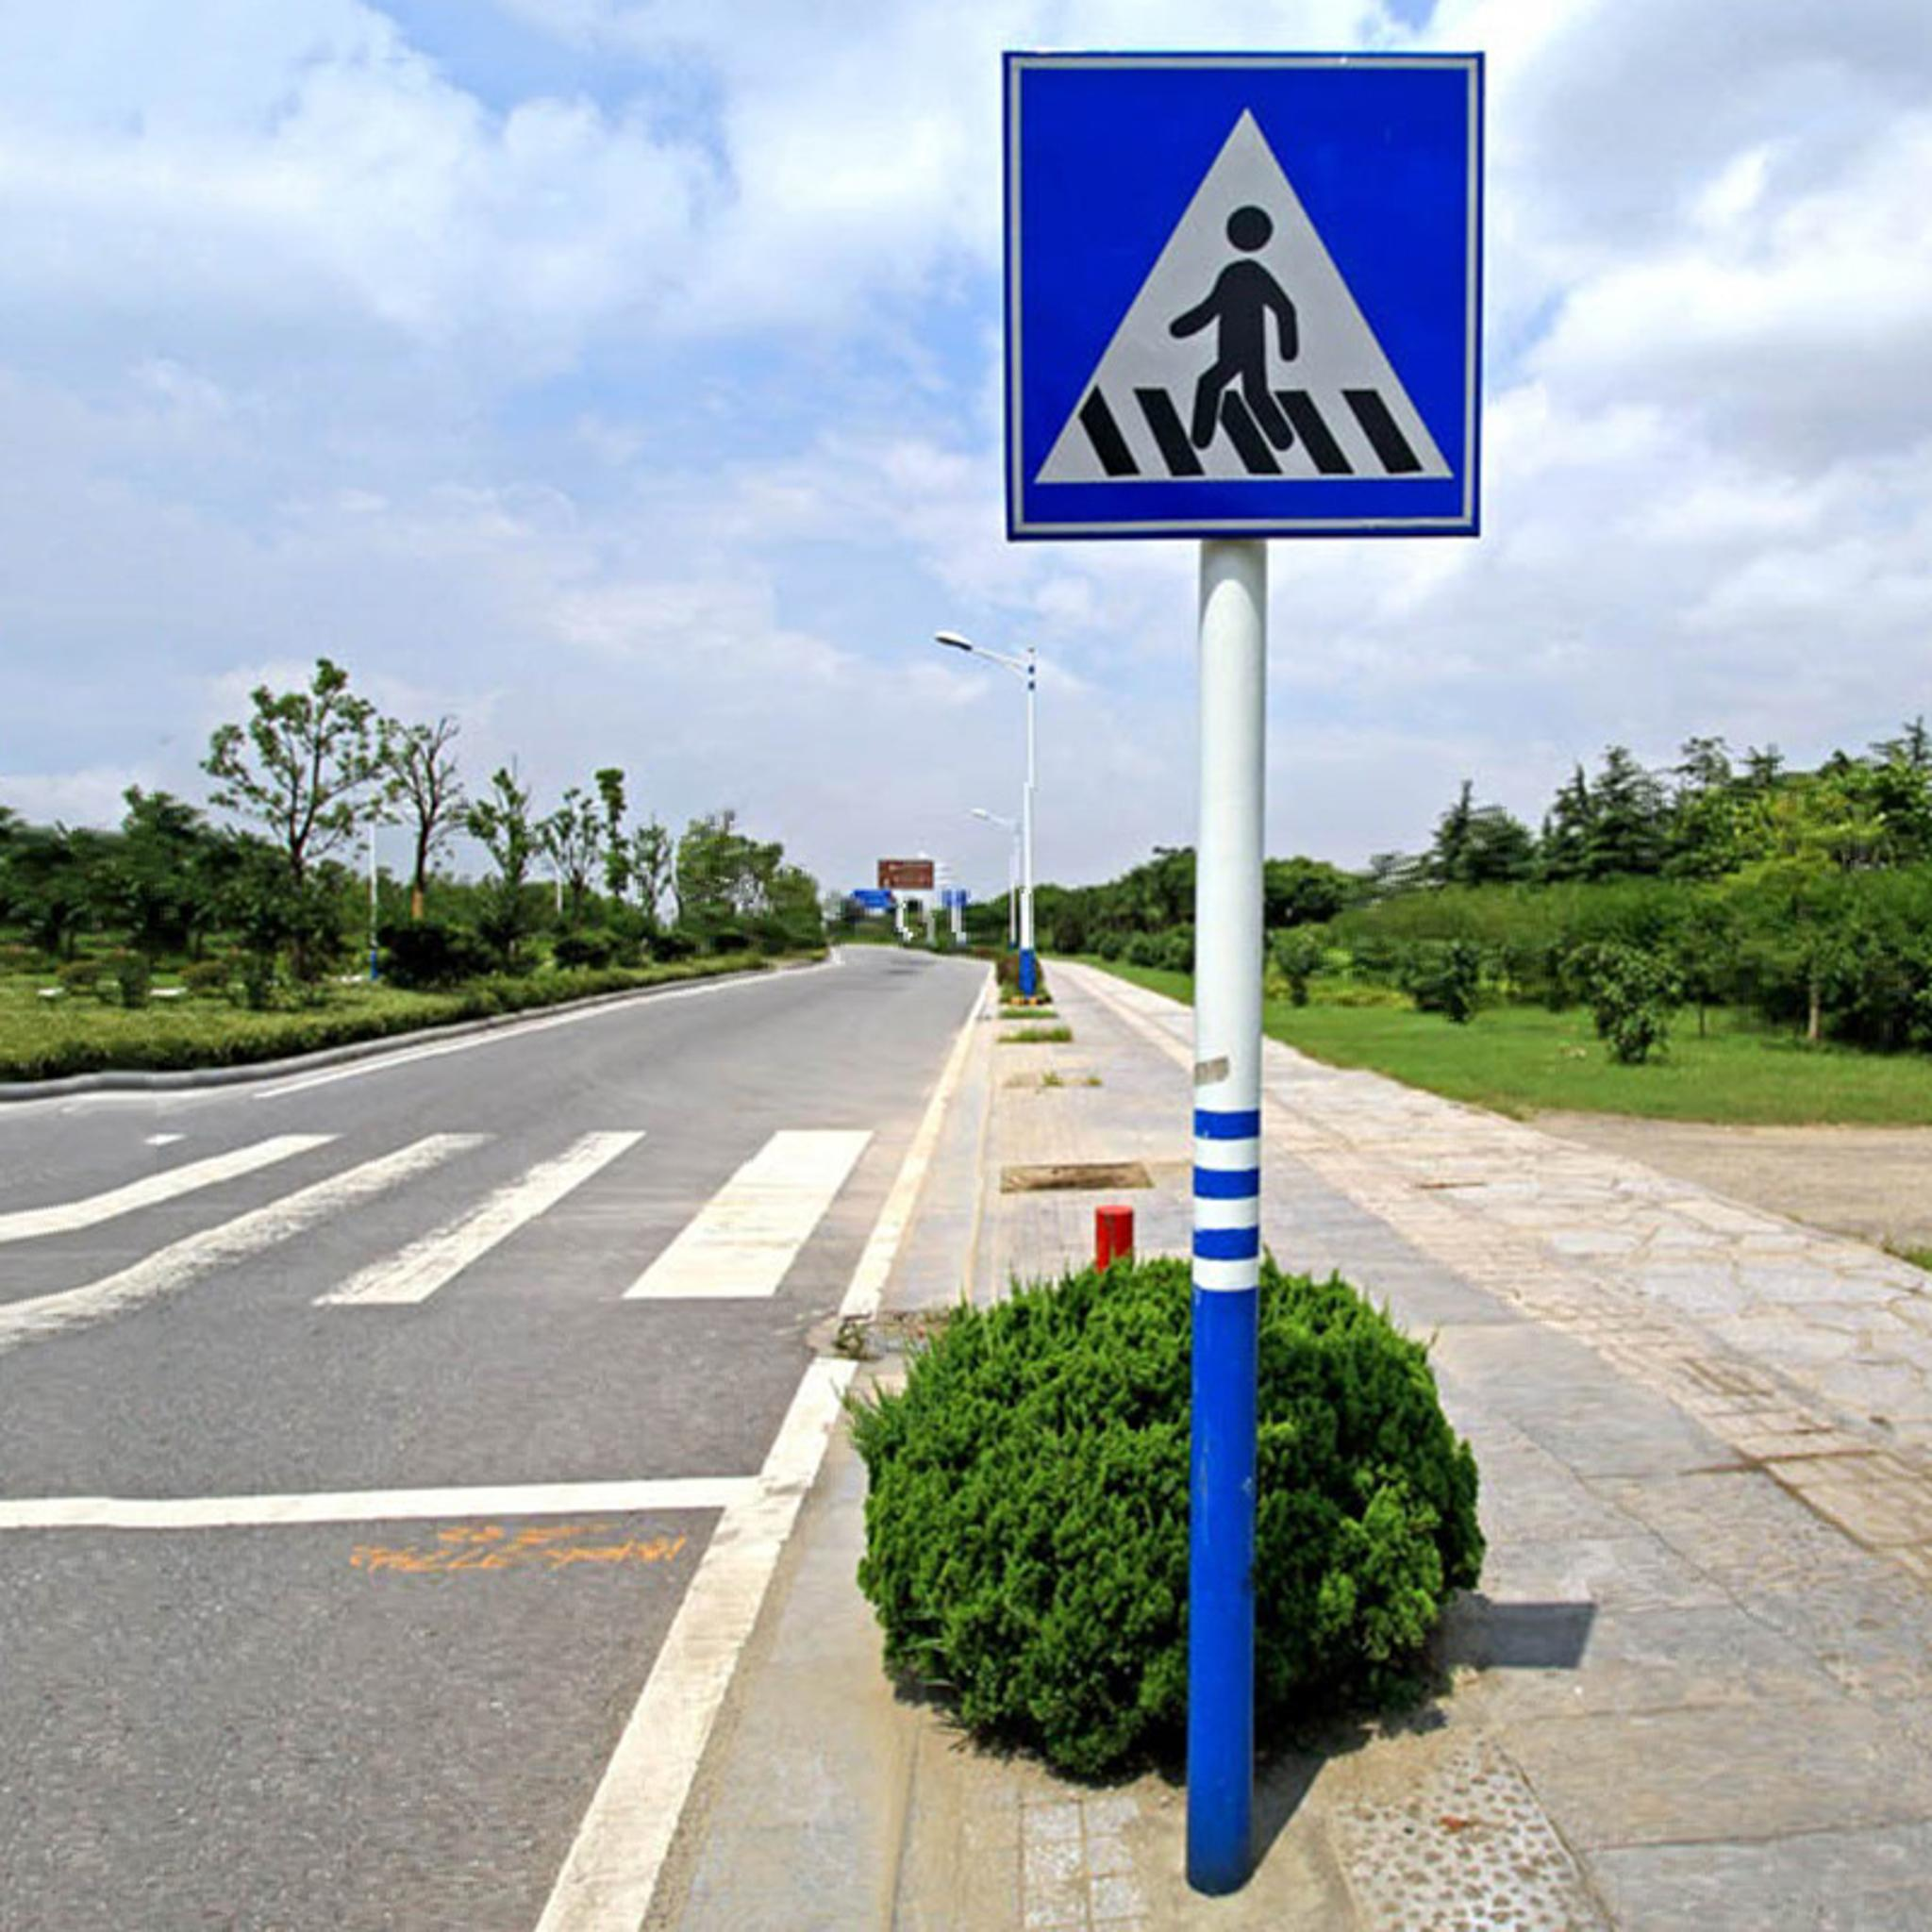ip: (1003, 48, 1476, 536)
